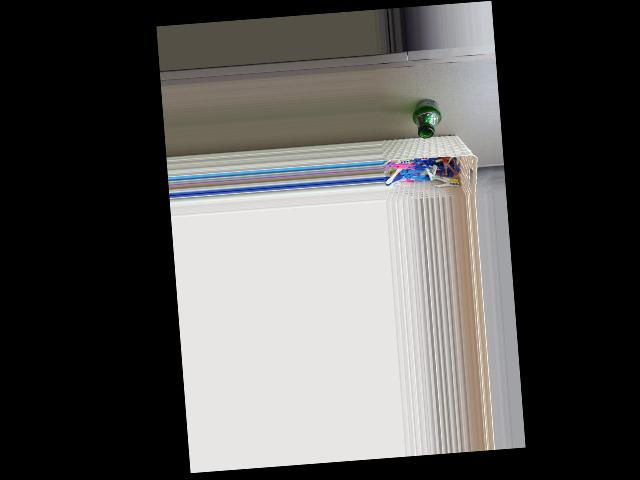beer: (410, 97, 443, 138)
